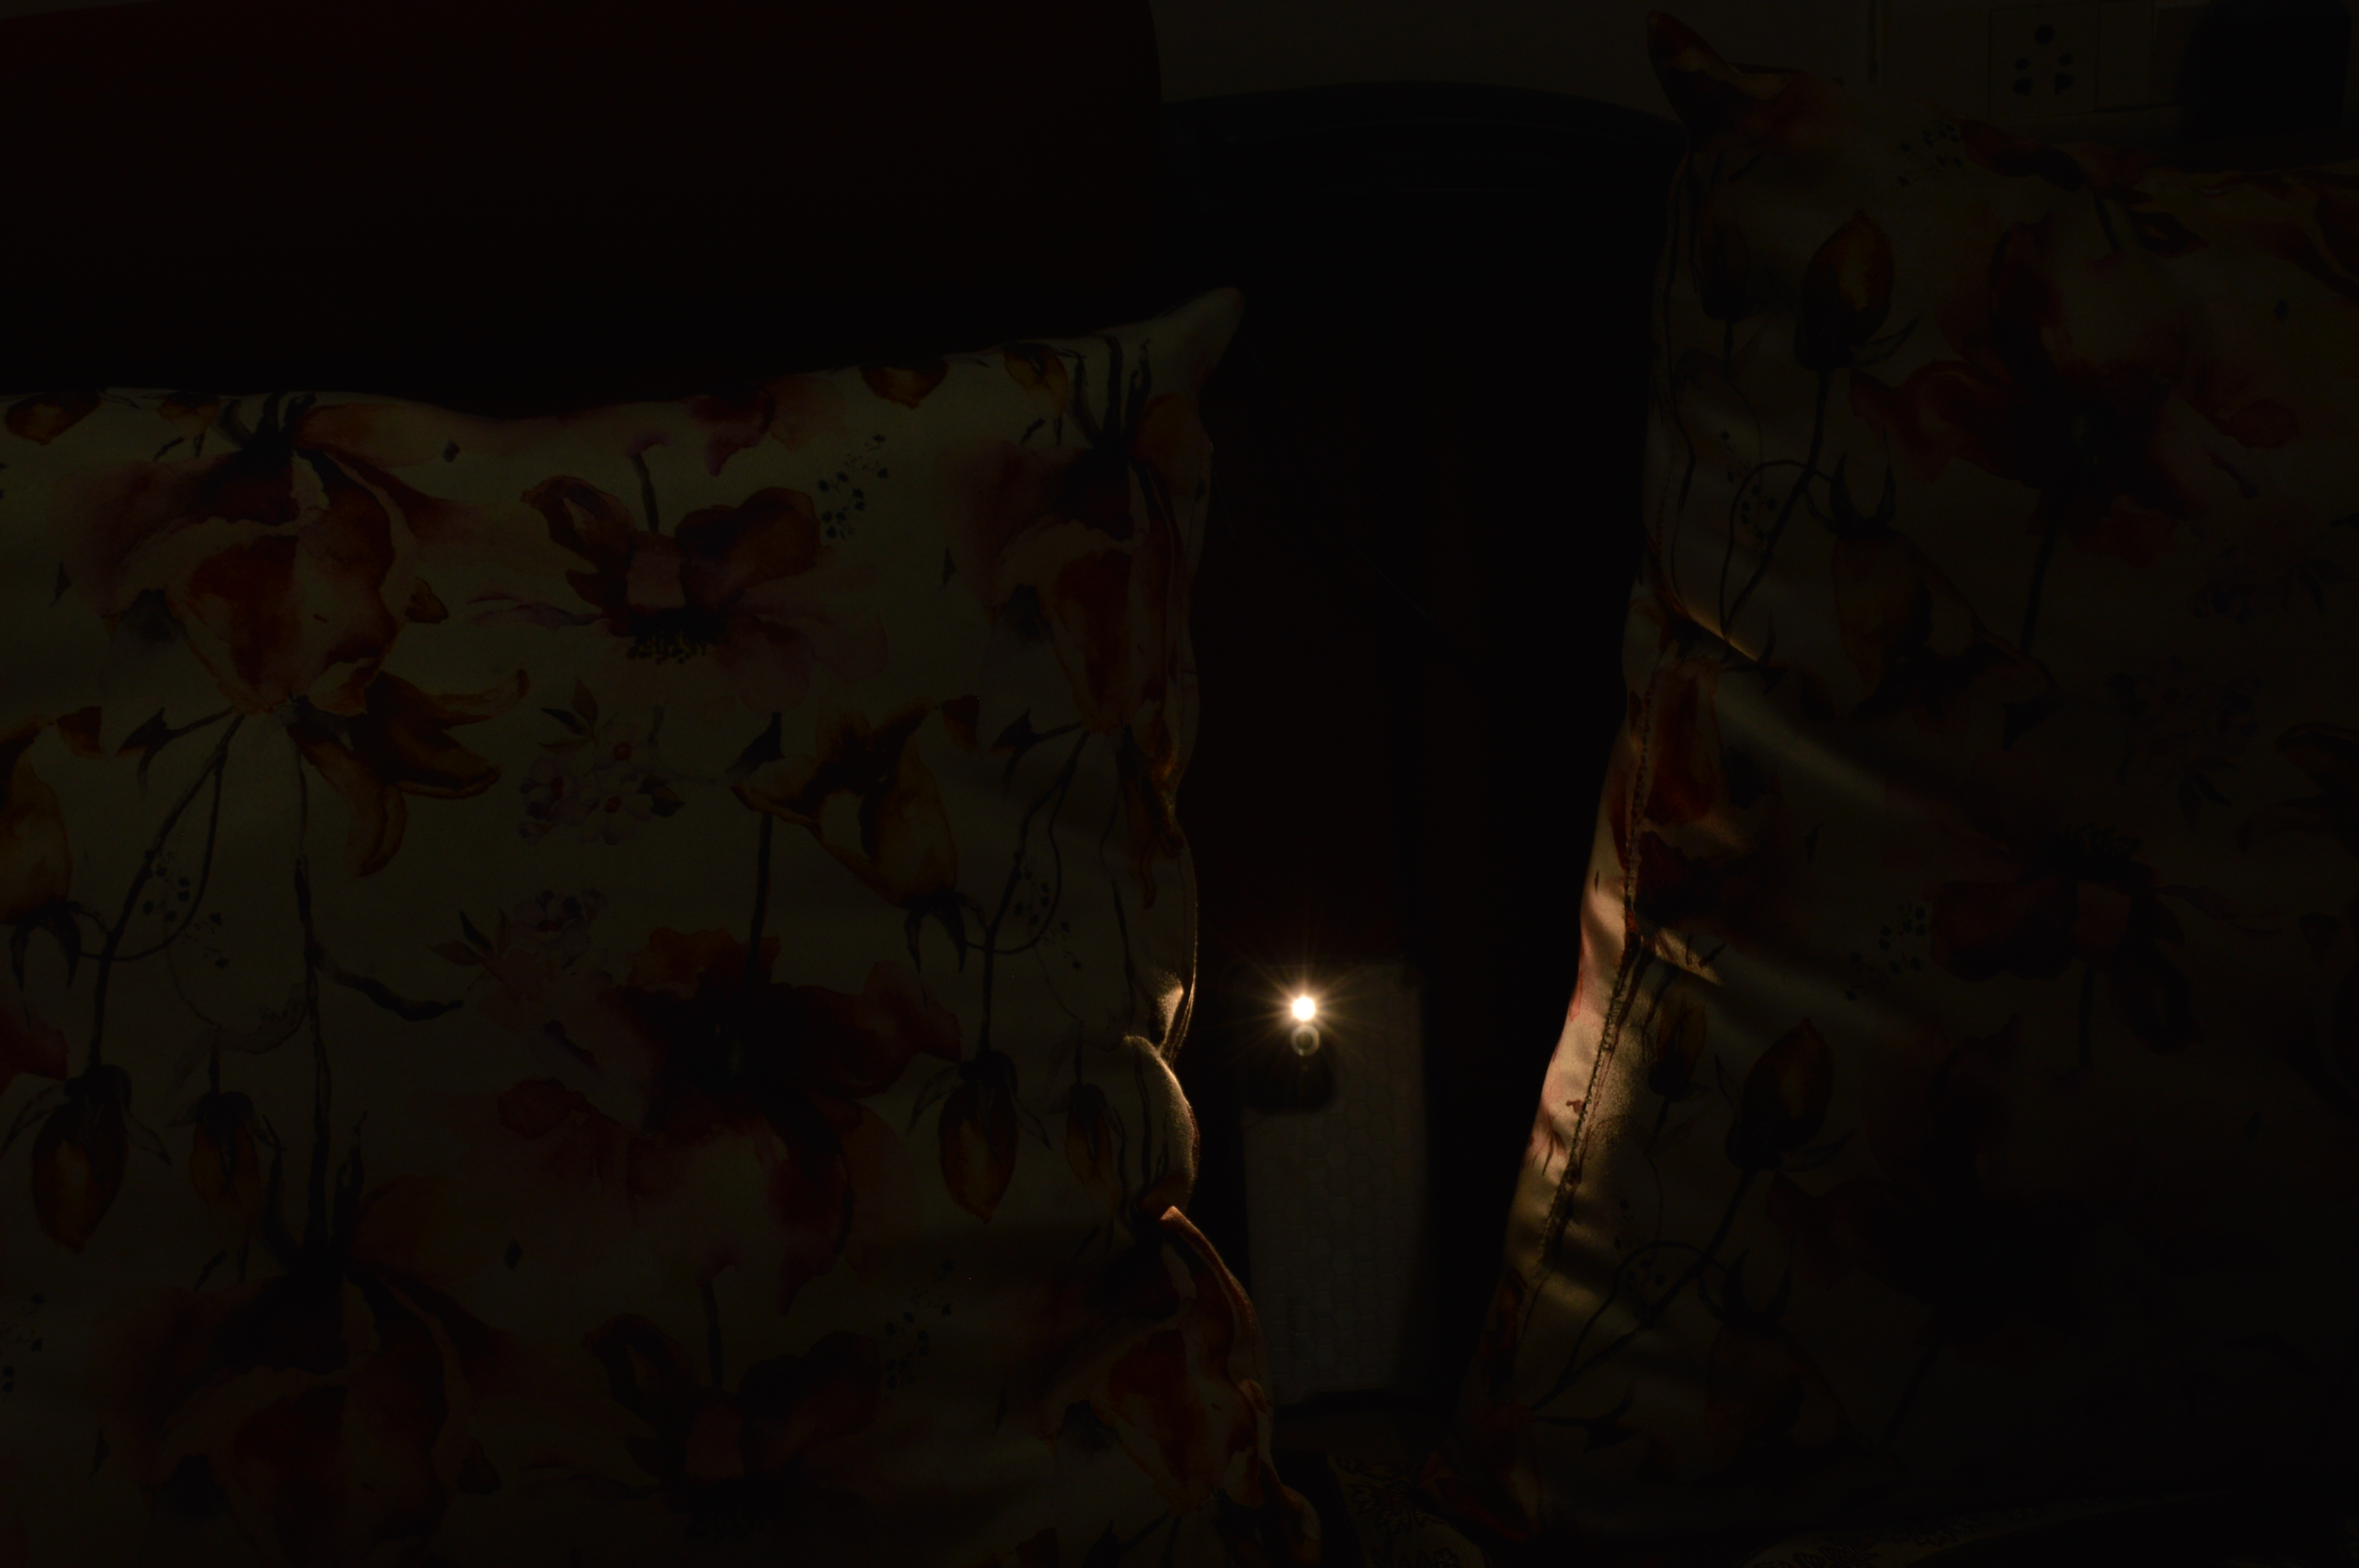Glare: (1276, 978, 1335, 1032)
